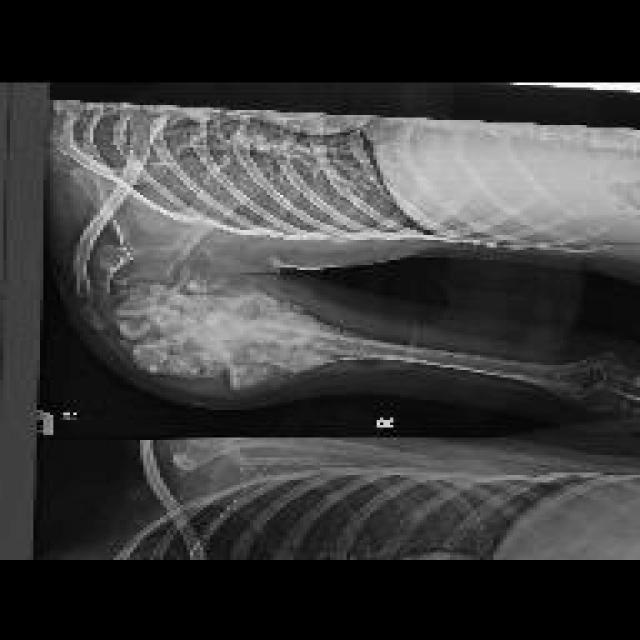bone-cancer: (97, 270, 342, 391)
